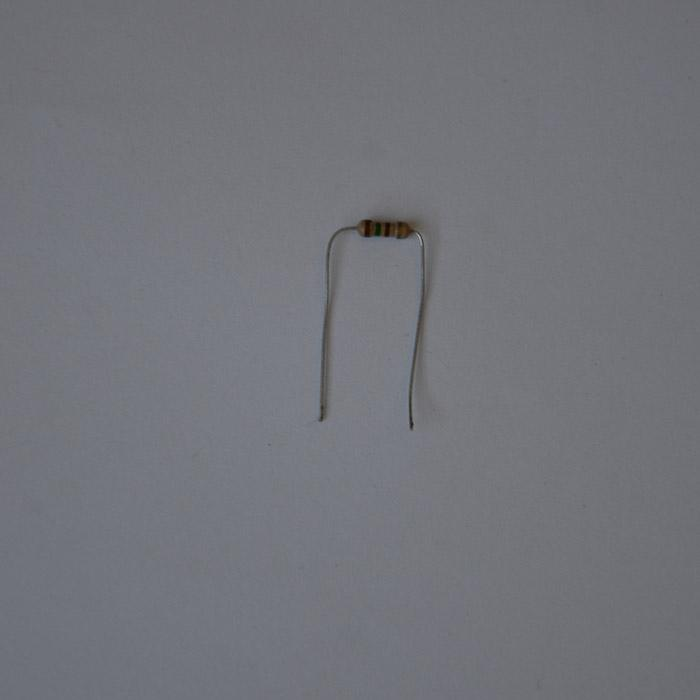resistor: (356, 218, 412, 239)
